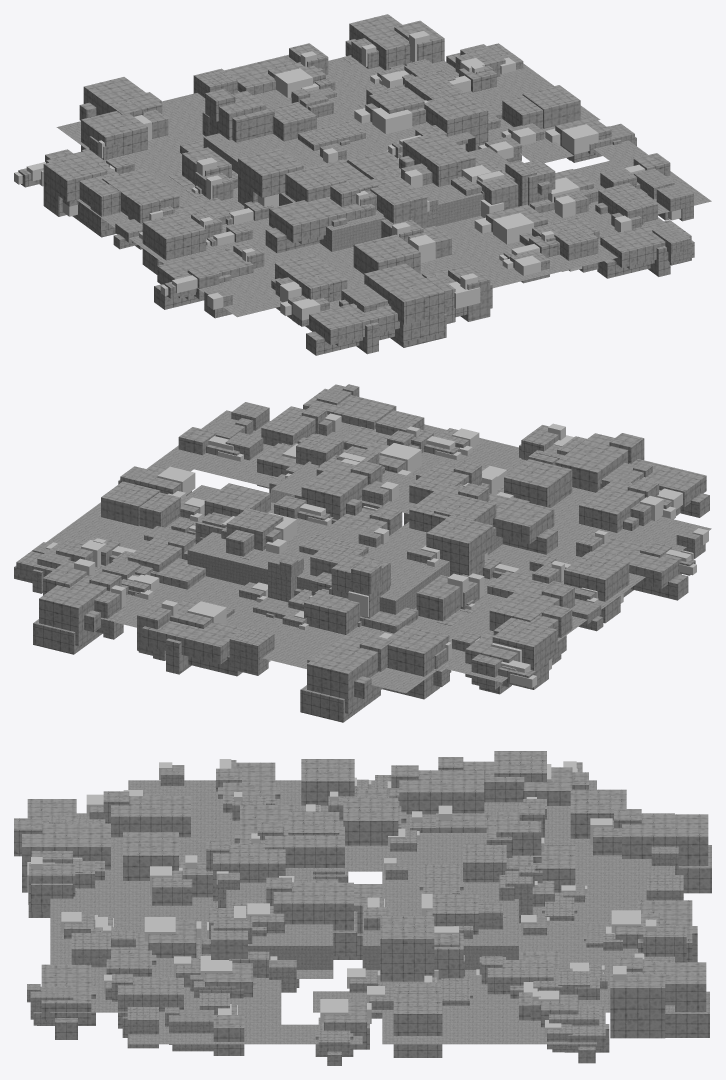
The model's file is CubeRocks.fbx.
The picture shows the model from 3 angles, top to bottom: view 1: azimuth 30°, elevation 25°; view 2: azimuth 150°, elevation 25°; view 3: azimuth 270°, elevation 25°; orthographic projection. The views are drawn at different scales.
Parts seen in each view (by area): view 1: Cubes, CubeShape04.013, CubeShape03.012, CubeShape03.019, CubeShape03.011, CubeShape04.018, CubeShape01.022, CubeShape01.012, CubeShape04.020, CubeShape03.005, CubeShape01.014, CubeShape04.014 (+64 smaller); view 2: Cubes, CubeShape04.009, CubeShape04.006, CubeShape03.004, CubeShape04.013, CubeShape04.020, CubeShape03.019, CubeShape01.022, CubeShape03.005, CubeShape04.017, CubeShape01.017, CubeShape01.012 (+65 smaller); view 3: Cubes, CubeShape04.009, CubeShape04.020, CubeShape04.014, CubeShape04.006, CubeShape06.006, CubeShape04.013, CubeShape01.015, CubeShape04.017, CubeShape04.021, CubeShape03.011, CubeShape01.004 (+73 smaller).
Part boxes in pixels (x1,y1,x2,y2): Cubes: (56, 57, 711, 317); CubeShape04.013: (364, 263, 446, 347); CubeShape03.012: (306, 303, 399, 355); CubeShape03.019: (265, 196, 370, 253); CubeShape03.011: (597, 220, 694, 278); CubeShape04.018: (205, 88, 274, 142); CubeShape01.022: (238, 148, 303, 207); CubeShape01.012: (142, 212, 206, 274); CubeShape04.020: (399, 131, 475, 186); CubeShape03.005: (154, 248, 253, 309); CubeShape01.014: (43, 154, 107, 216); CubeShape04.014: (102, 169, 179, 249); Cubes: (46, 410, 711, 693); CubeShape04.009: (300, 635, 393, 722); CubeShape04.006: (33, 571, 121, 654); CubeShape03.004: (138, 621, 242, 676); CubeShape04.013: (555, 433, 644, 492); CubeShape04.020: (301, 460, 382, 523); CubeShape03.019: (488, 493, 557, 554); CubeShape01.022: (426, 515, 493, 575); CubeShape03.005: (589, 537, 688, 600); CubeShape04.017: (579, 478, 658, 532); CubeShape01.017: (382, 625, 449, 699); CubeShape01.012: (564, 552, 629, 623); Cubes: (50, 780, 674, 1044); CubeShape04.009: (614, 809, 711, 893); CubeShape04.020: (266, 877, 357, 956); CubeShape04.014: (391, 765, 484, 814); CubeShape04.006: (616, 957, 709, 1037); CubeShape06.006: (610, 966, 665, 1038); CubeShape04.013: (14, 818, 110, 904); CubeShape01.015: (380, 916, 434, 981); CubeShape04.017: (103, 791, 190, 837); CubeShape04.021: (257, 822, 348, 882); CubeShape03.011: (37, 964, 95, 1039); CubeShape01.004: (393, 993, 442, 1057).
Size of the model in its own units: 45056 by 6814 by 46347.
